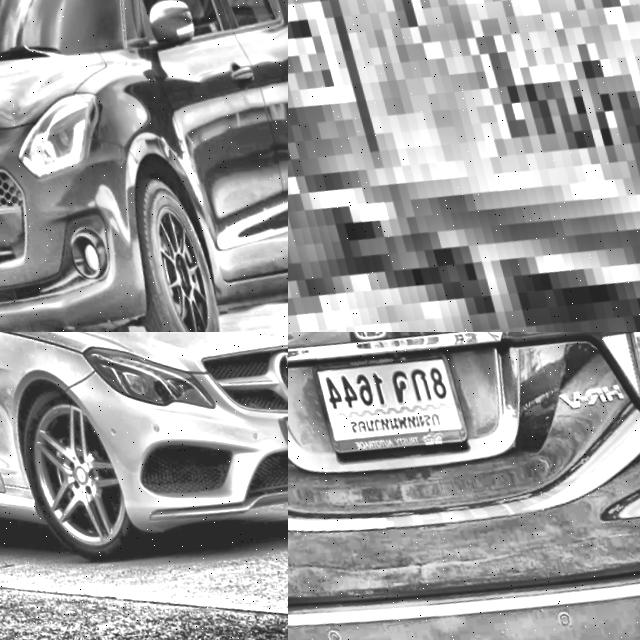license-plate: (288, 0, 640, 332), (300, 332, 465, 464), (273, 388, 288, 455)
